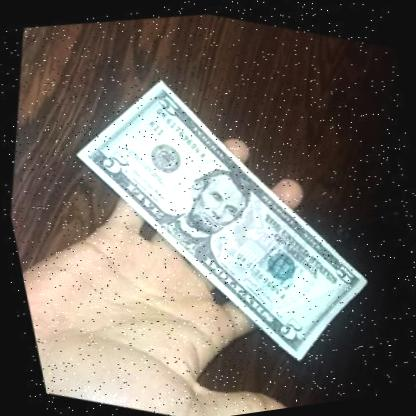five-front: (9, 15, 416, 416)
